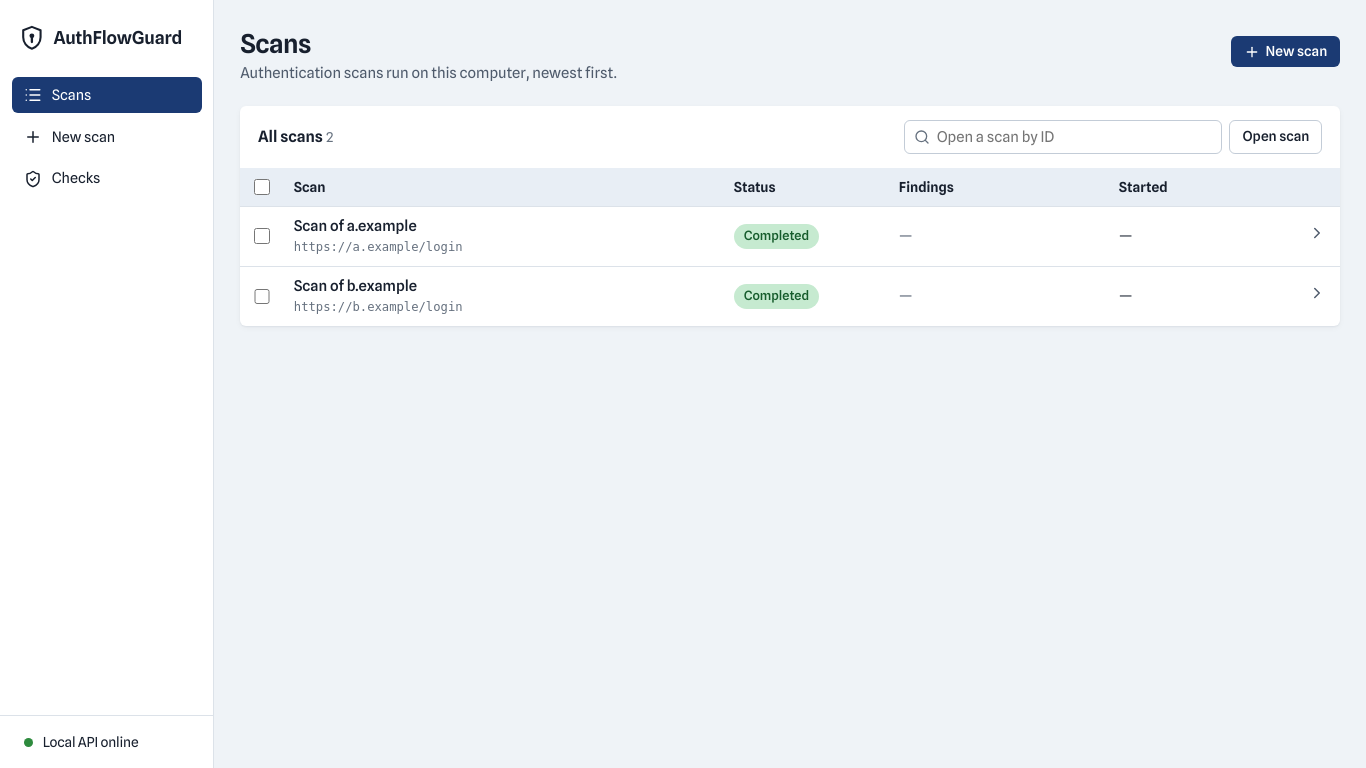
setup workflow › keeps scans that fail to delete selected and explains why
Click the checkbox named "Select all scans": (262, 187) [254, 179, 270, 195]
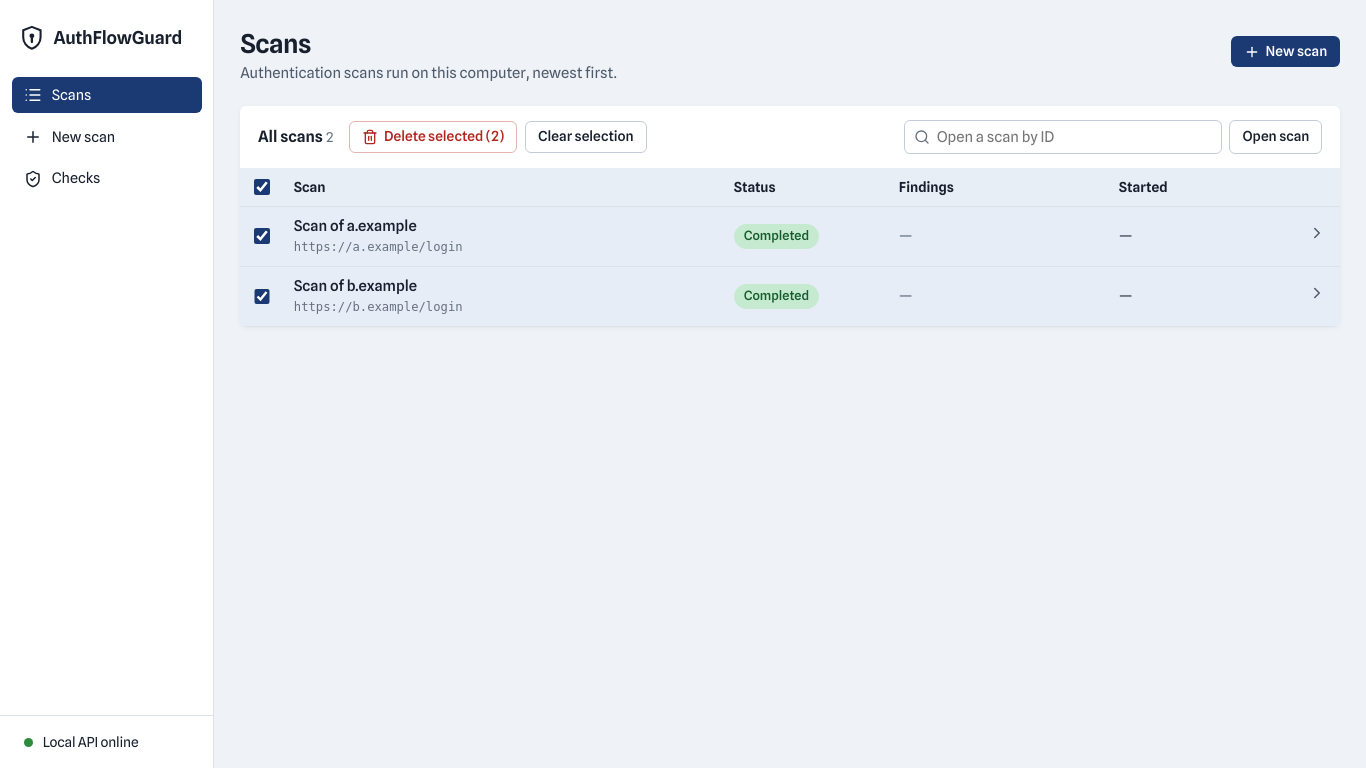
Click the button "Delete selected (2)": (433, 137) [349, 121, 517, 153]
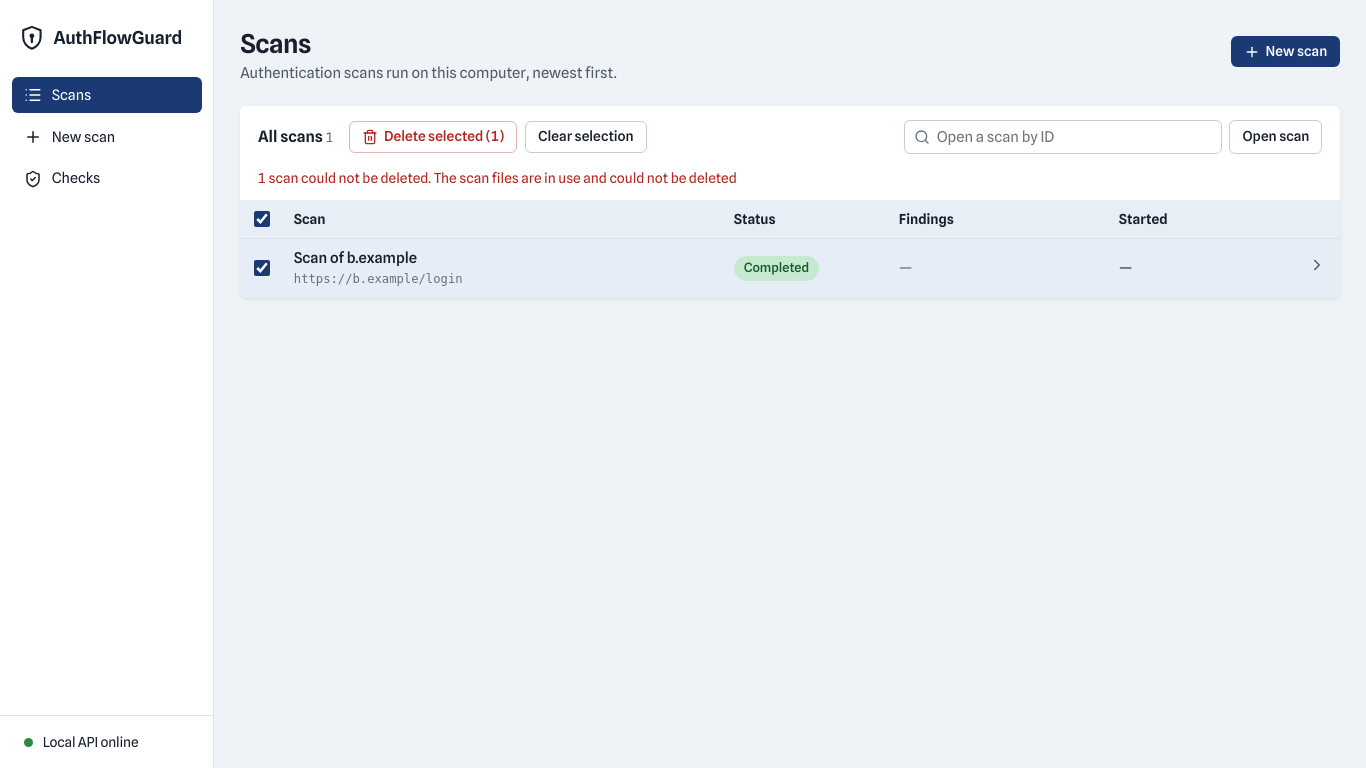
Now the checkbox named "Select Scan of b.example" is checked, box [254, 260, 270, 276]
Now the 1st message reads "1 scan could not be deleted. The scan files are in use and could not be deleted", box [258, 170, 737, 186]
Now the button "Scan of a.example" is gone
